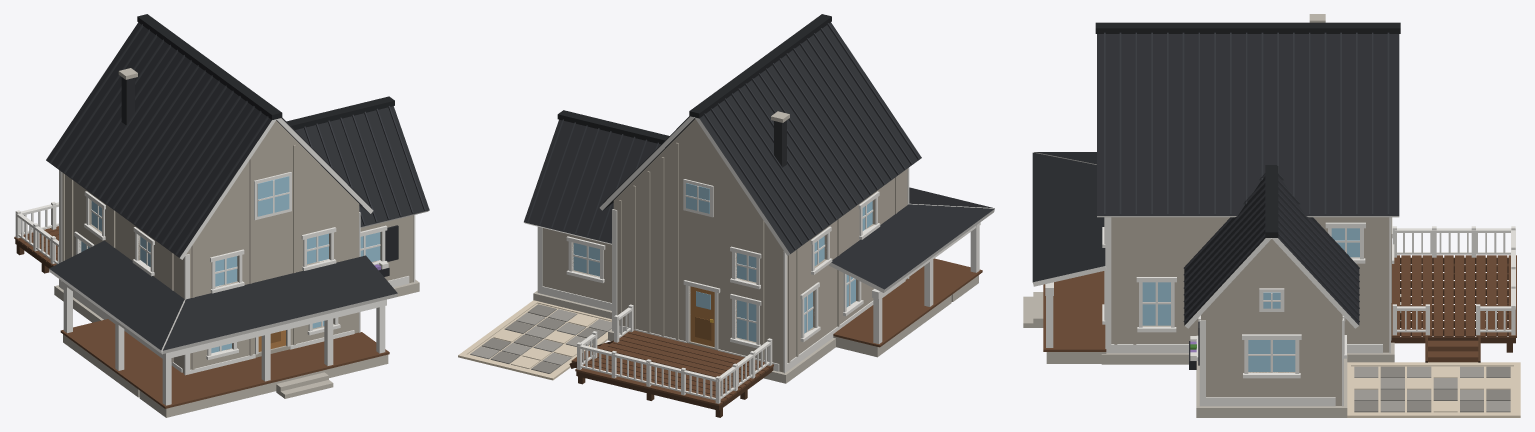
The model's file is base-07-level4.glb.
3 renders of one model, left to right at view 1: azimuth 30°, elevation 25°; view 2: azimuth 150°, elevation 25°; view 3: azimuth 270°, elevation 25°, orthographic. The views are drawn at different scales.
Parts seen in each view (by area): view 1: base_house_7_finished, piece_addition, piece_deck; view 2: base_house_7_finished, piece_addition, piece_deck, piece_patio; view 3: base_house_7_finished, piece_addition, piece_deck, piece_patio.
Part boxes in pixels (x1,y1,x2,y2): base_house_7_finished: (46, 14, 397, 417); piece_addition: (286, 96, 429, 296); piece_deck: (14, 201, 58, 273); base_house_7_finished: (599, 14, 994, 383); piece_addition: (524, 110, 669, 319); piece_deck: (569, 304, 773, 417); piece_patio: (458, 300, 611, 380); base_house_7_finished: (1023, 14, 1401, 364); piece_addition: (1183, 165, 1359, 417); piece_deck: (1391, 226, 1516, 362); piece_patio: (1347, 362, 1520, 417).
Size of the model in its own units: 13.93 by 10.17 by 15.79.
